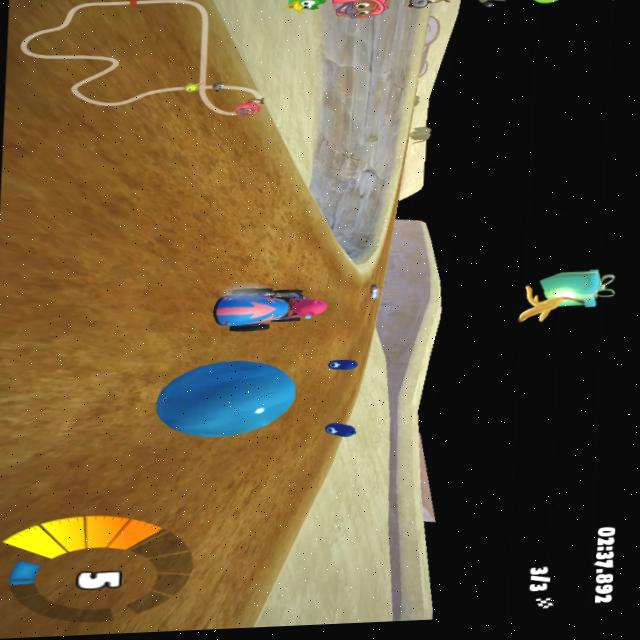enemy_kart: (370, 285, 383, 296)
nitro: (322, 422, 360, 439), (327, 354, 358, 373)
obstacle: (157, 359, 285, 439)
player_kart: (213, 282, 321, 335)
track: (0, 0, 195, 640), (178, 49, 242, 361), (175, 434, 306, 548), (230, 131, 279, 290), (171, 548, 254, 631), (269, 182, 309, 285), (289, 359, 322, 433), (235, 333, 319, 357), (324, 281, 352, 352), (303, 235, 345, 282), (344, 276, 367, 354), (355, 288, 385, 347), (324, 372, 358, 422), (366, 250, 392, 289), (379, 208, 396, 247), (390, 187, 405, 202), (393, 200, 401, 209)
